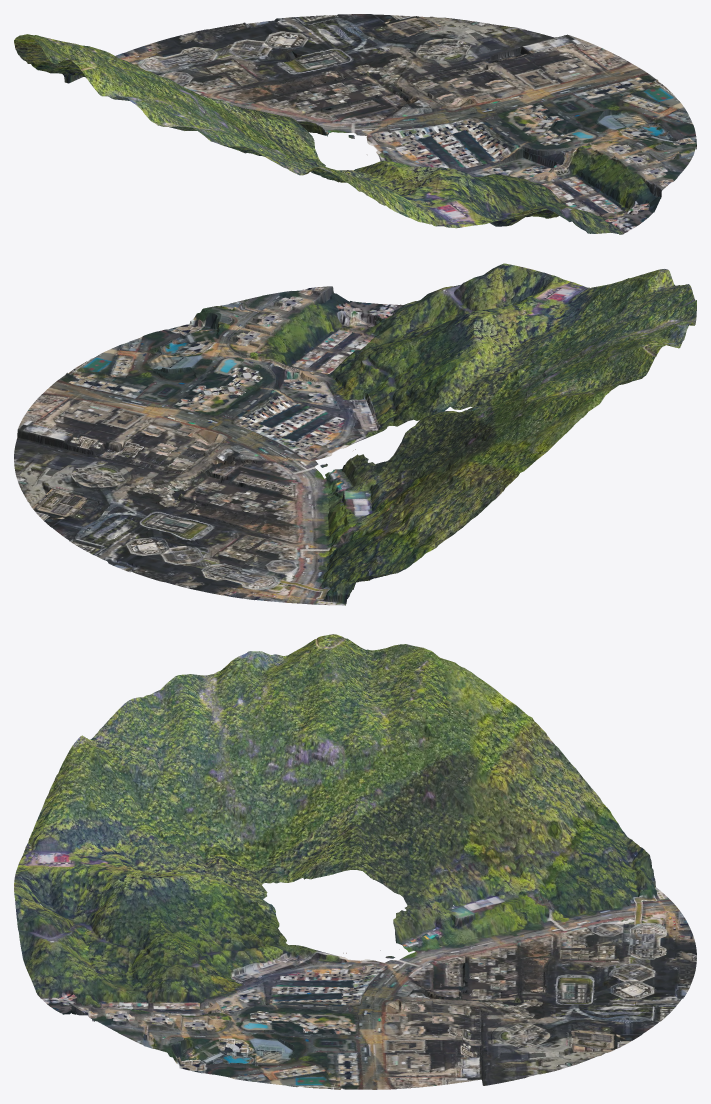
File: terrain.glb
3 renders of one model, top to bottom at view 1: azimuth 30°, elevation 25°; view 2: azimuth 150°, elevation 25°; view 3: azimuth 270°, elevation 25°, orthographic.
Parts seen in each view (by area): view 1: T39750162000106E11, T39750156000106E10, T39000156000106E10, T39000162000106E11; view 2: T39750156000106E10, T39750162000106E11, T39000162000106E11, T39000156000106E10; view 3: T39000156000106E10, T39750156000106E10, T39000162000106E11, T39750162000106E11.
Part boxes in pixels (box(x1,y1,x2,y2)): T39750162000106E11: box(125, 14, 641, 140); T39750156000106E10: box(291, 69, 696, 234); T39000156000106E10: box(52, 60, 457, 228); T39000162000106E11: box(14, 34, 199, 94); T39750156000106E10: box(51, 263, 584, 457); T39750162000106E11: box(14, 386, 410, 599); T39000162000106E11: box(253, 380, 636, 605); T39000156000106E10: box(411, 269, 696, 433); T39000156000106E10: box(22, 634, 373, 889); T39750156000106E10: box(14, 853, 373, 1089); T39000162000106E11: box(372, 644, 688, 925); T39750162000106E11: box(372, 874, 696, 1089).
Bounding box in the file's own units: 700 × 206 × 700.
Materials: 4 (4 with a texture image).
